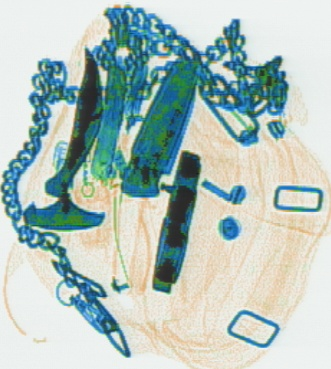knife: (115, 52, 201, 199)
